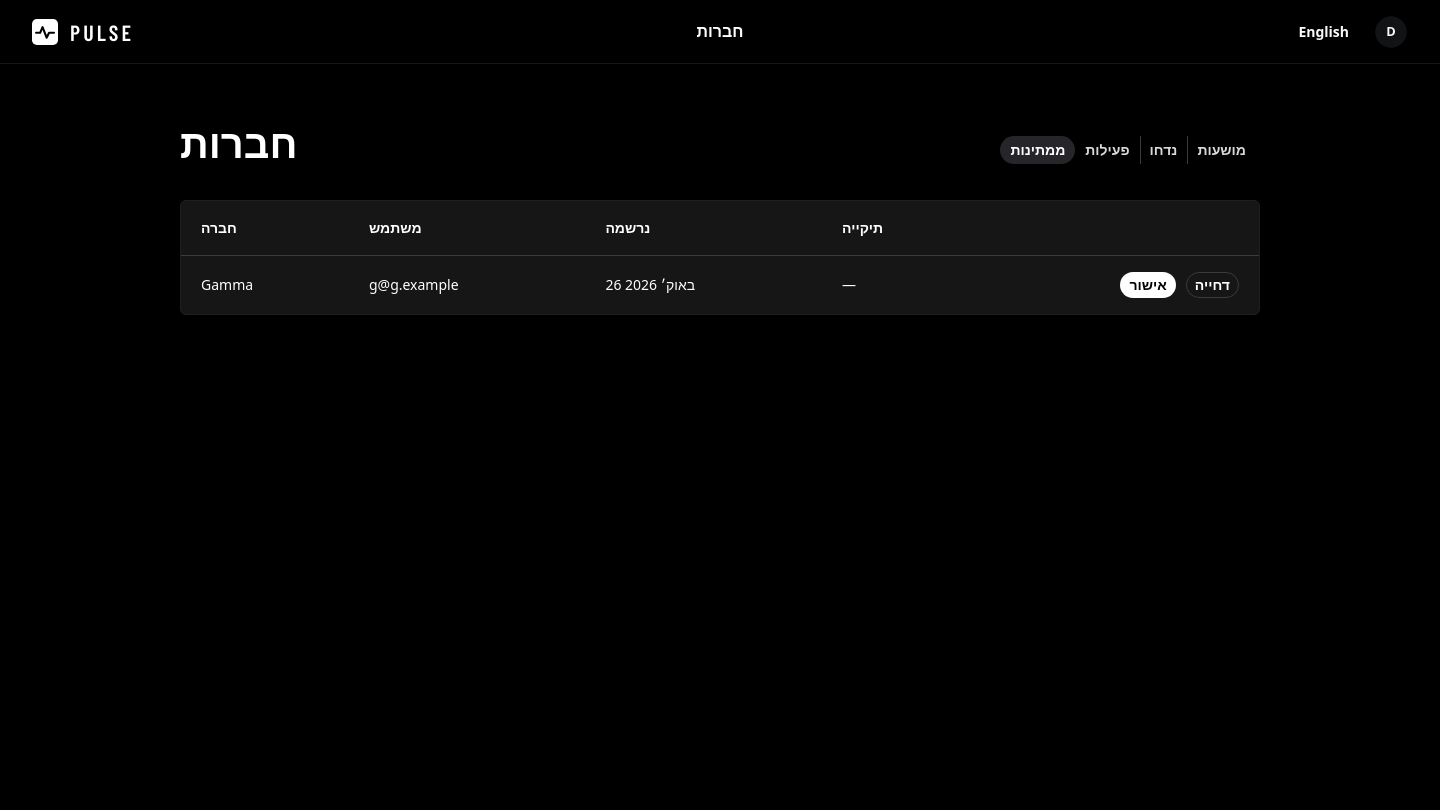
Test: the operator › shows the server's refusal in the dialog
Click the button "אישור": (1148, 285) [1120, 272, 1176, 298]
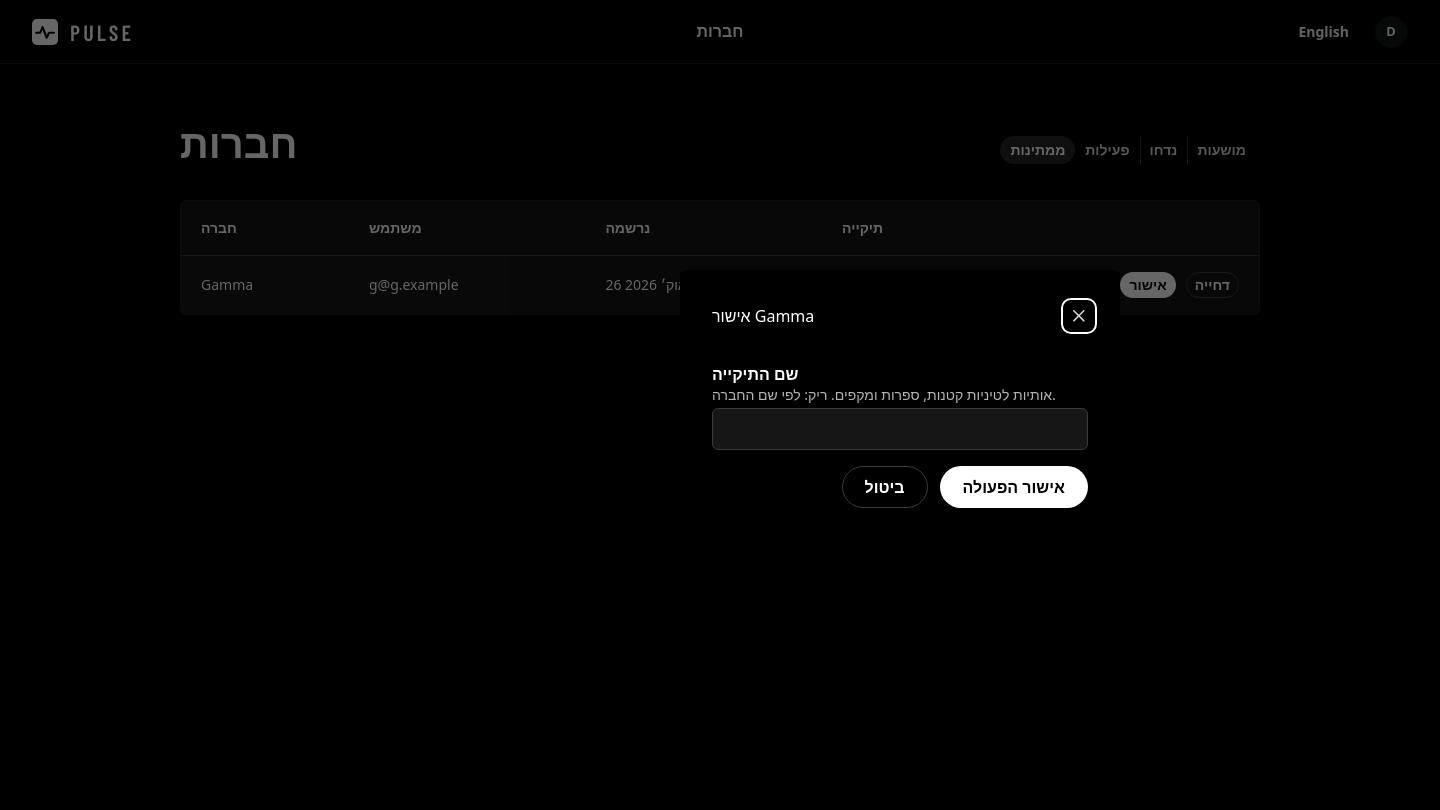
Click the button "אישור הפעולה": (1014, 487) [940, 466, 1088, 508]
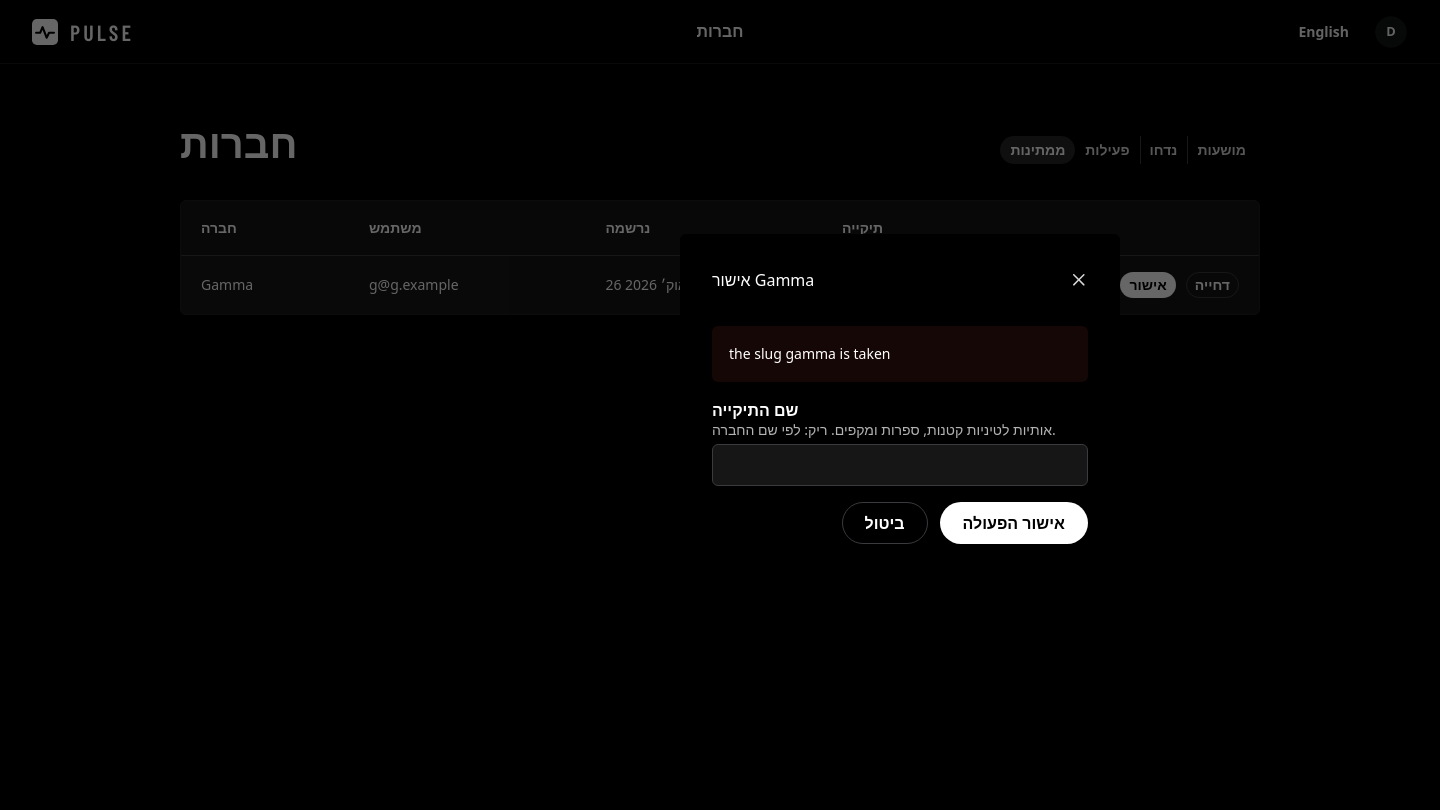
Result: the text "the slug gamma is taken" is shown at [729, 344, 890, 363]
